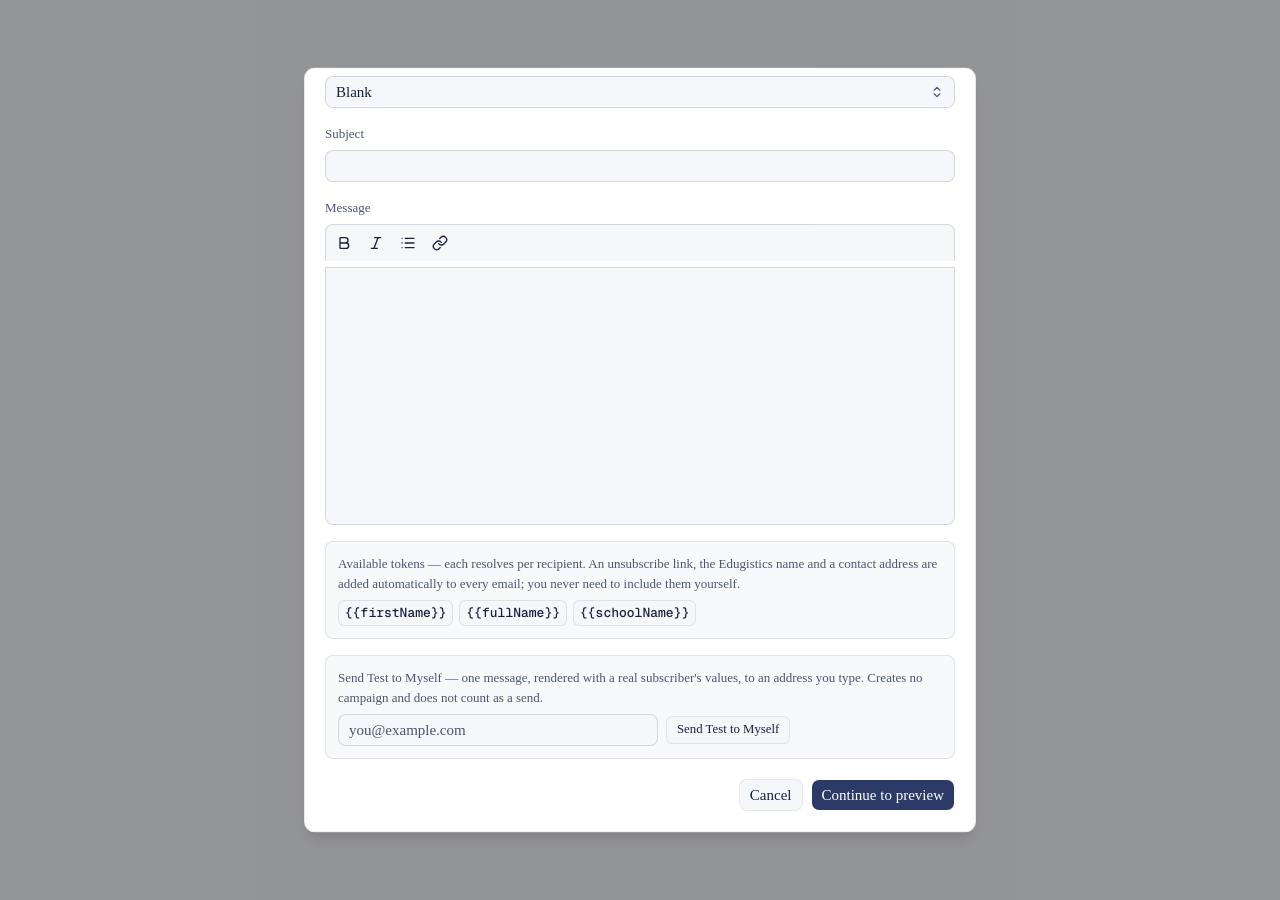
SubscribersEmailComposer — Send Test to Myself › never leaves the button stuck on "Sending…" when the request itself rejects (the production bug: an unhandled promise rejection, not a handled result)
This screenshot has width=1280, height=900.
(page scrolled)
Step 1. Type "admin@example.com" into the field with placeholder "you@example.com" → (498,730), box [338,714,658,746]
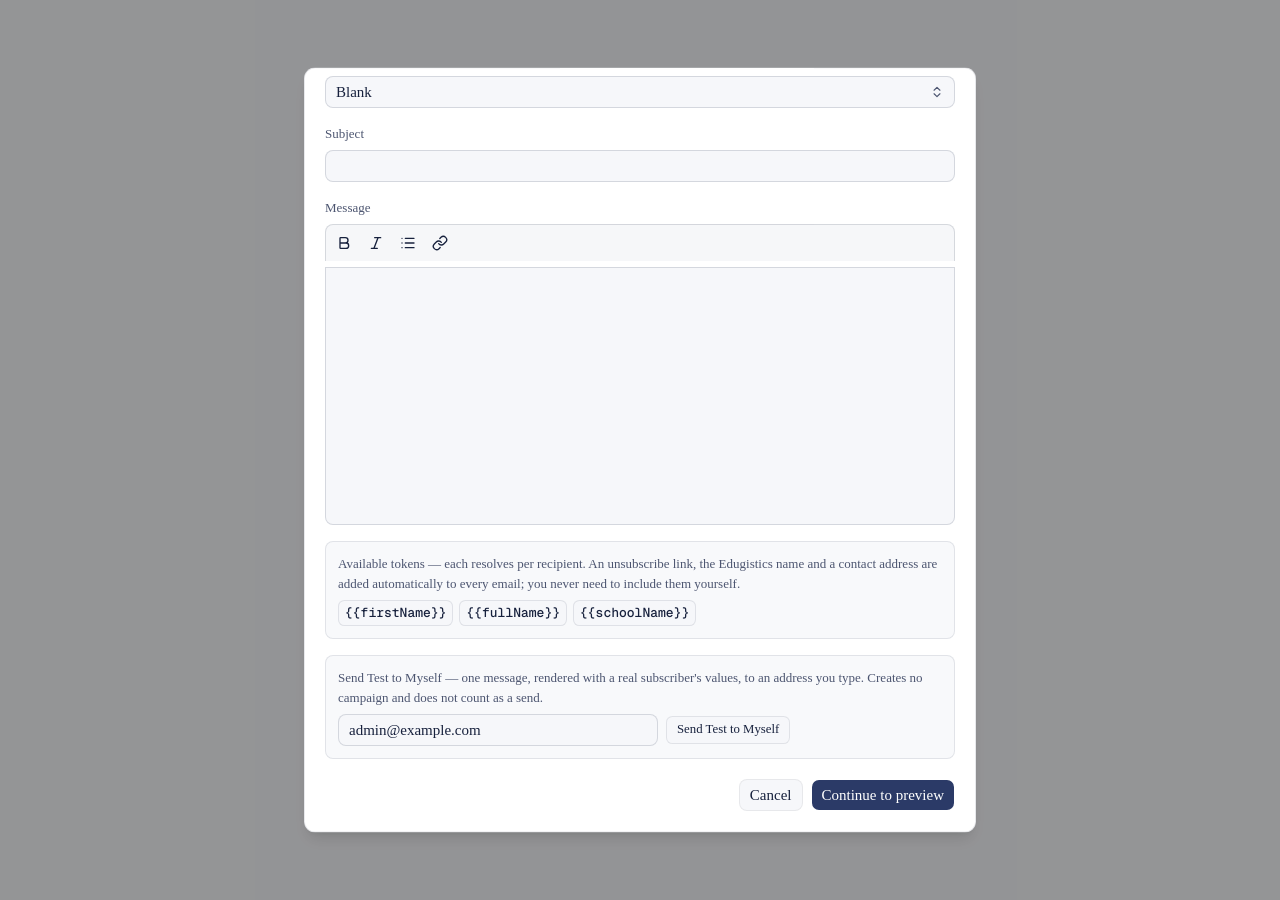
Step 2. Click the button "Send Test to Myself" → (728,730), box [666,716,790,744]
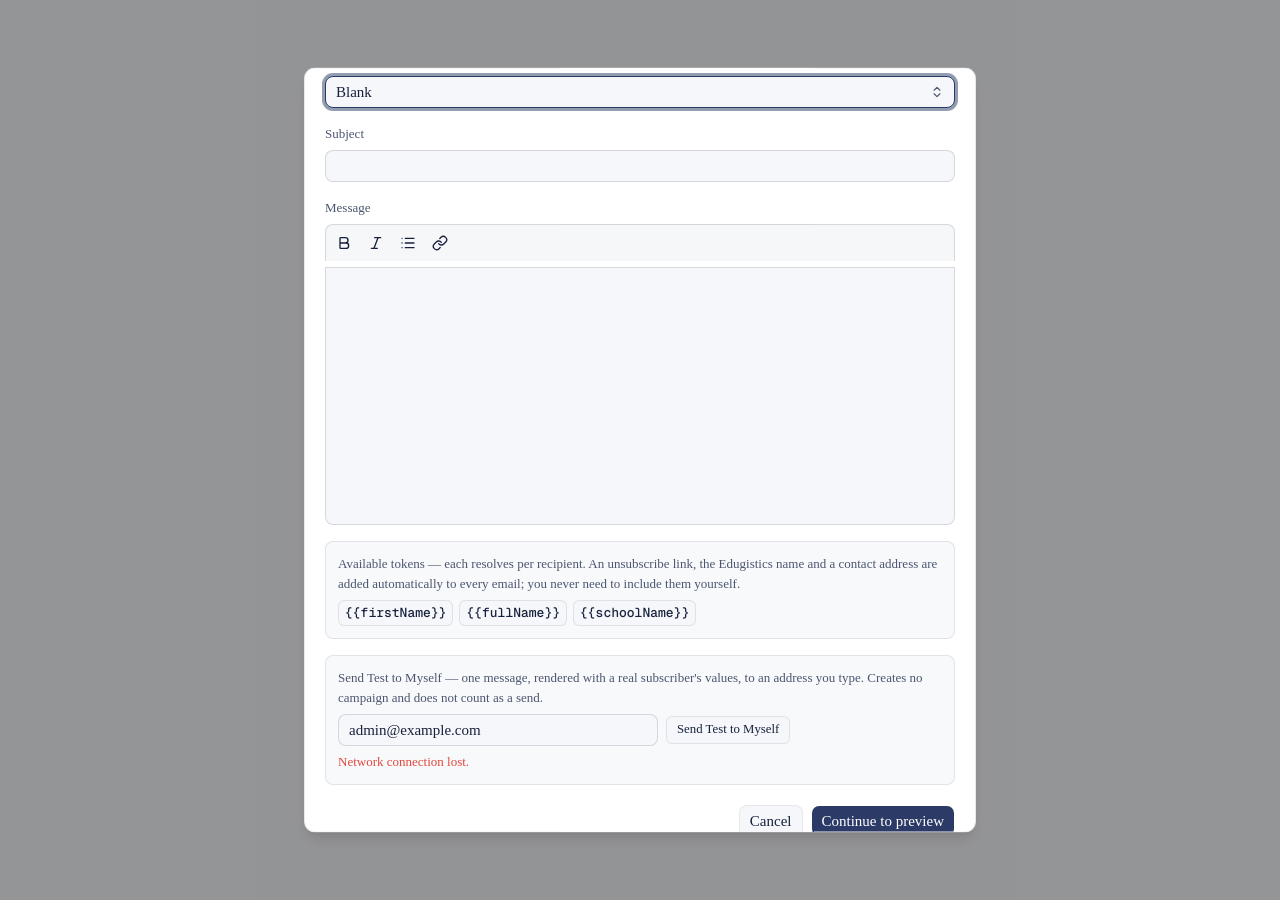
Expected: the text "Network connection lost." is shown, [338,754,469,770]
